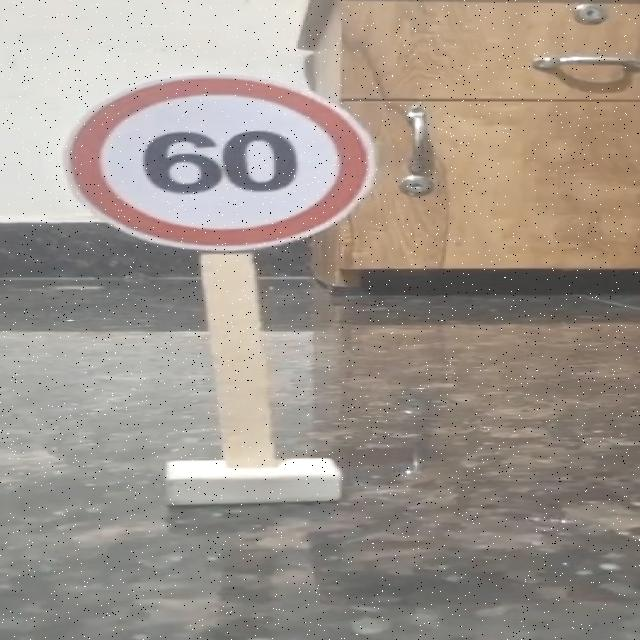Speed60: (54, 65, 388, 258)
